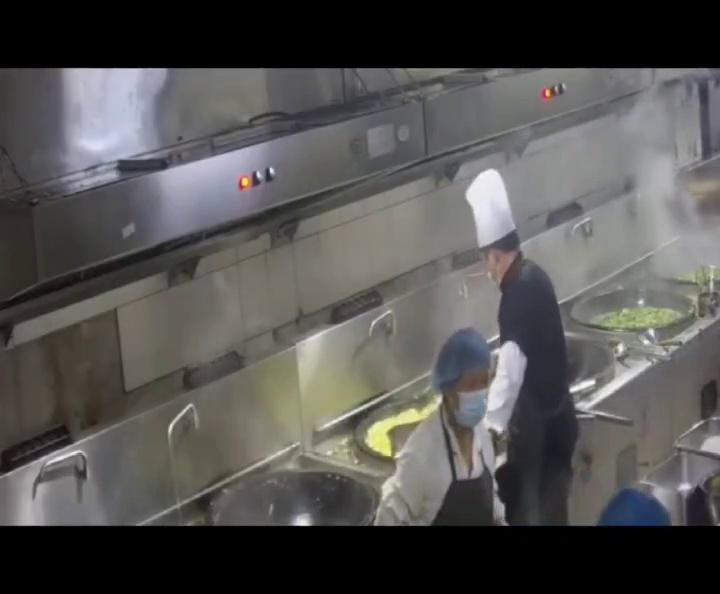gloves: (431, 331, 494, 384)
mask: (444, 387, 501, 433)
